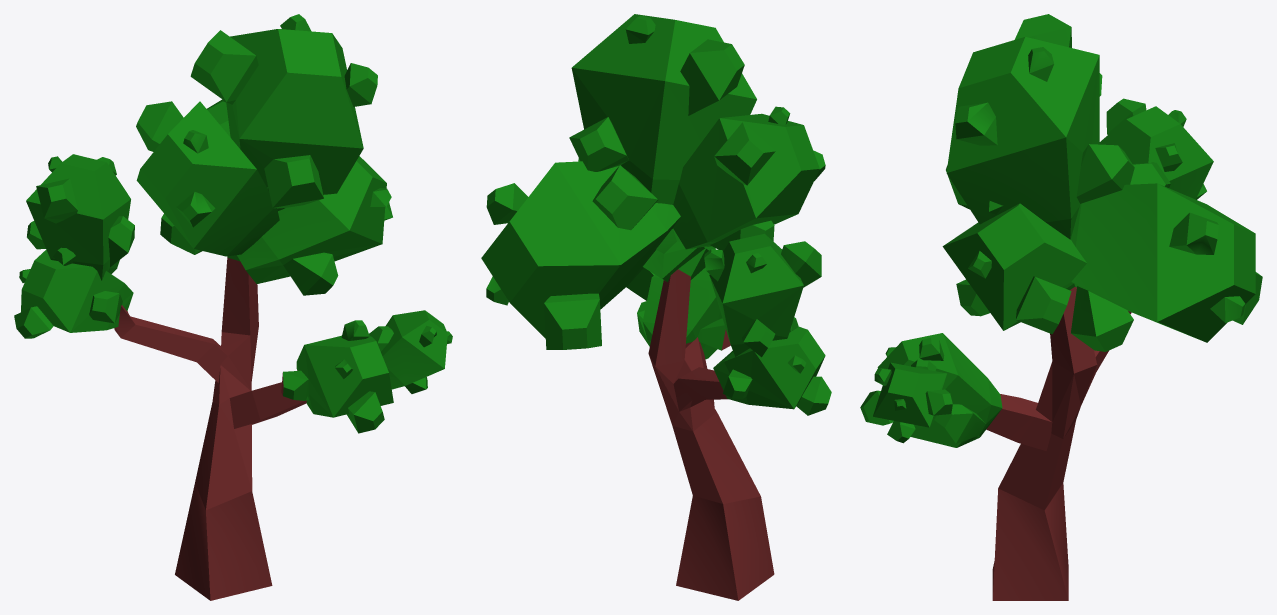
File: 9_tree.fbx
The picture shows the model from 3 angles, left to right: view 1: azimuth 30°, elevation 25°; view 2: azimuth 150°, elevation 25°; view 3: azimuth 270°, elevation 25°; orthographic projection. The views are drawn at different scales.
Visible parts, largest first — view 1: Leaves, Bark; view 2: Leaves, Bark; view 3: Leaves, Bark.
Boxes of the visible parts, x1,y1,x2,y2 form: Leaves: (14,14,452,433); Bark: (114,257,306,600); Leaves: (481,14,831,415); Bark: (648,269,774,600); Leaves: (860,14,1262,447); Bark: (986,287,1131,600).
Size of the model in its own units: 149 by 149 by 235.
